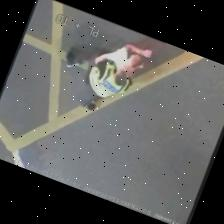person: (82, 44, 151, 109)
